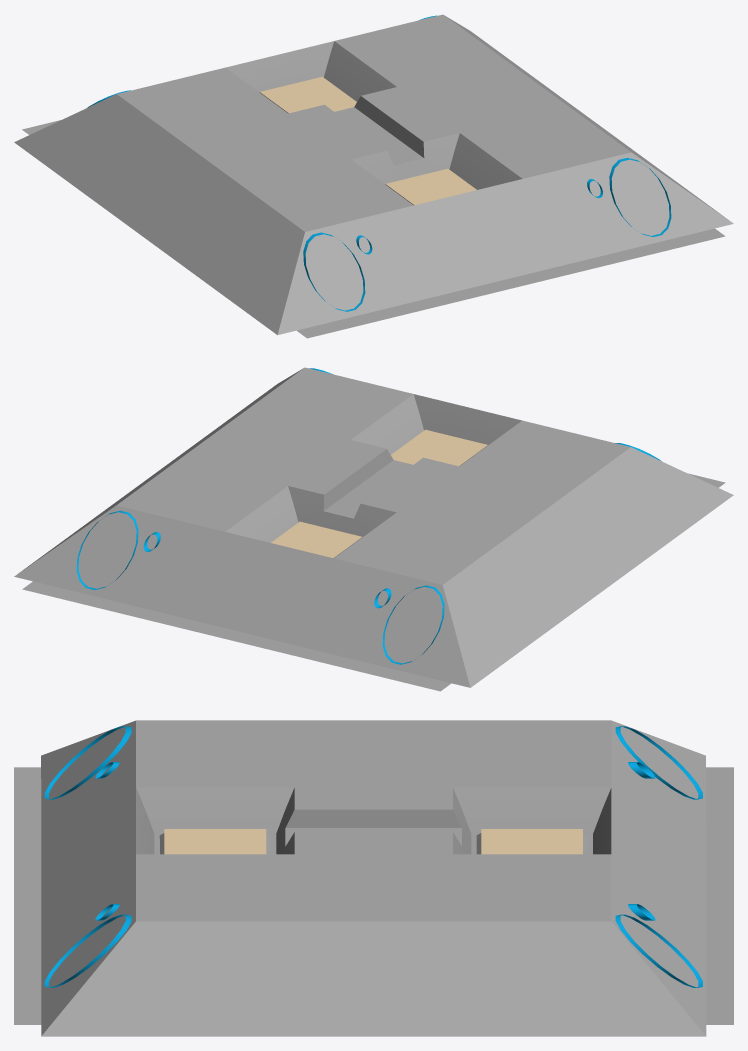
File: HallwayStraightCeilingLightUVs.fbx
The picture shows the model from 3 angles, top to bottom: view 1: azimuth 30°, elevation 25°; view 2: azimuth 150°, elevation 25°; view 3: azimuth 270°, elevation 25°; orthographic projection. The views are drawn at different scales.
Parts seen in each view (by area): view 1: HallwayCeiling; view 2: HallwayCeiling; view 3: HallwayCeiling.
Part boxes in pixels (box(x1,y1,x2,y2)): HallwayCeiling: box(14, 14, 733, 338); HallwayCeiling: box(14, 367, 733, 691); HallwayCeiling: box(14, 720, 733, 1036).
Size of the model in its own units: 23.99 by 3.52 by 25.98.
